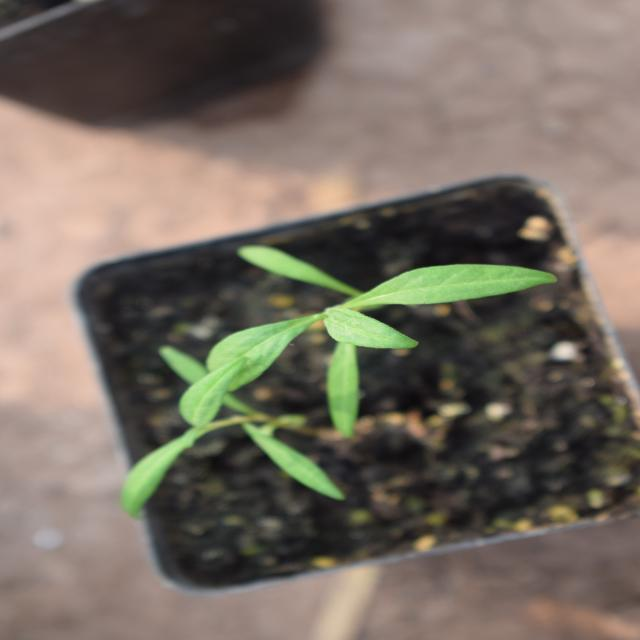white_smart_weed: (224, 178, 394, 546)
